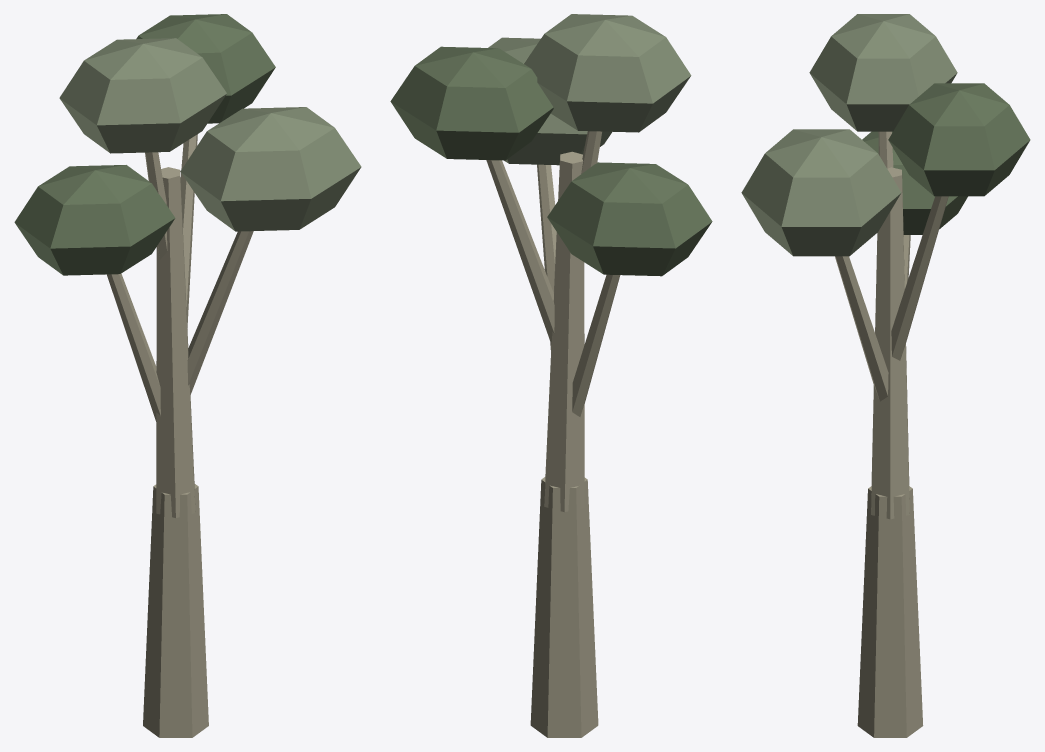
File: prop-tree-tuart.glb
The picture shows the model from 3 angles, left to right: view 1: azimuth 30°, elevation 25°; view 2: azimuth 150°, elevation 25°; view 3: azimuth 270°, elevation 25°; orthographic projection. The views are drawn at different scales.
Visible parts, largest first — view 1: tree-tuart; view 2: tree-tuart; view 3: tree-tuart.
Boxes of the visible parts, bbox=[...] form: tree-tuart: bbox=[14, 14, 361, 737]; tree-tuart: bbox=[390, 14, 712, 737]; tree-tuart: bbox=[741, 14, 1030, 737].
Bounding box in the file's own units: 0.8817 × 2.2 × 0.8386.
